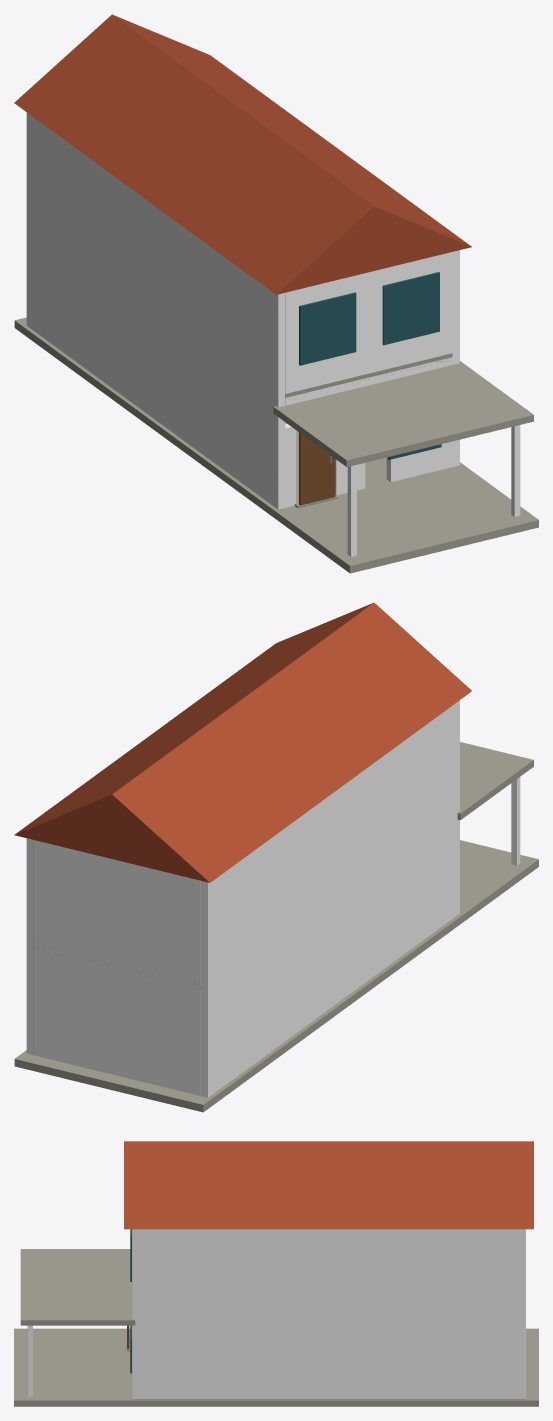
The model's file is terrace-house.glb.
3 renders of one model, top to bottom at view 1: azimuth 30°, elevation 25°; view 2: azimuth 150°, elevation 25°; view 3: azimuth 270°, elevation 25°, orthographic. The views are drawn at different scales.
Visible parts, largest first — view 1: Pitched_Roof, Party_Wall, Ground_Slab, Porch_Roof, Upper_Front, Upper_Window, Upper_Window.001, Entry_Door, Front_Pier.002, Front_Lintel, Front_Pier, Party_Wall.001 (+3 smaller); view 2: Pitched_Roof, Party_Wall, Rear_Wall, Ground_Slab, Porch_Roof, Party_Wall.001, Porch_Column; view 3: Party_Wall.001, Pitched_Roof, Ground_Slab, Porch_Roof, Porch_Column.001.
Part boxes in pixels (left/top/right/bottom): Pitched_Roof: left=14, top=14, right=471, bottom=294; Party_Wall: left=26, top=112, right=285, bottom=509; Ground_Slab: left=14, top=317, right=538, bottom=573; Porch_Roof: left=273, top=361, right=533, bottom=466; Upper_Front: left=285, top=252, right=452, bottom=393; Upper_Window: left=299, top=292, right=356, bottom=365; Upper_Window.001: left=382, top=272, right=439, bottom=345; Entry_Door: left=299, top=432, right=335, bottom=505; Front_Pier.002: left=386, top=440, right=456, bottom=482; Front_Lintel: left=285, top=357, right=452, bottom=424; Front_Pier: left=282, top=424, right=296, bottom=508; Party_Wall.001: left=452, top=250, right=459, bottom=466; Pitched_Roof: left=14, top=602, right=471, bottom=882; Party_Wall: left=201, top=700, right=459, bottom=1097; Rear_Wall: left=33, top=840, right=200, bottom=1095; Ground_Slab: left=14, top=840, right=538, bottom=1112; Porch_Roof: left=457, top=742, right=533, bottom=820; Party_Wall.001: left=26, top=838, right=33, bottom=1055; Porch_Column: left=511, top=777, right=520, bottom=865; Party_Wall.001: left=132, top=1229, right=525, bottom=1399; Pitched_Roof: left=124, top=1141, right=533, bottom=1229; Ground_Slab: left=14, top=1328, right=538, bottom=1406; Porch_Roof: left=20, top=1249, right=135, bottom=1325; Porch_Column.001: left=27, top=1325, right=32, bottom=1396.
Bounding box in the file's own units: 5.4 × 7.7 × 16.
